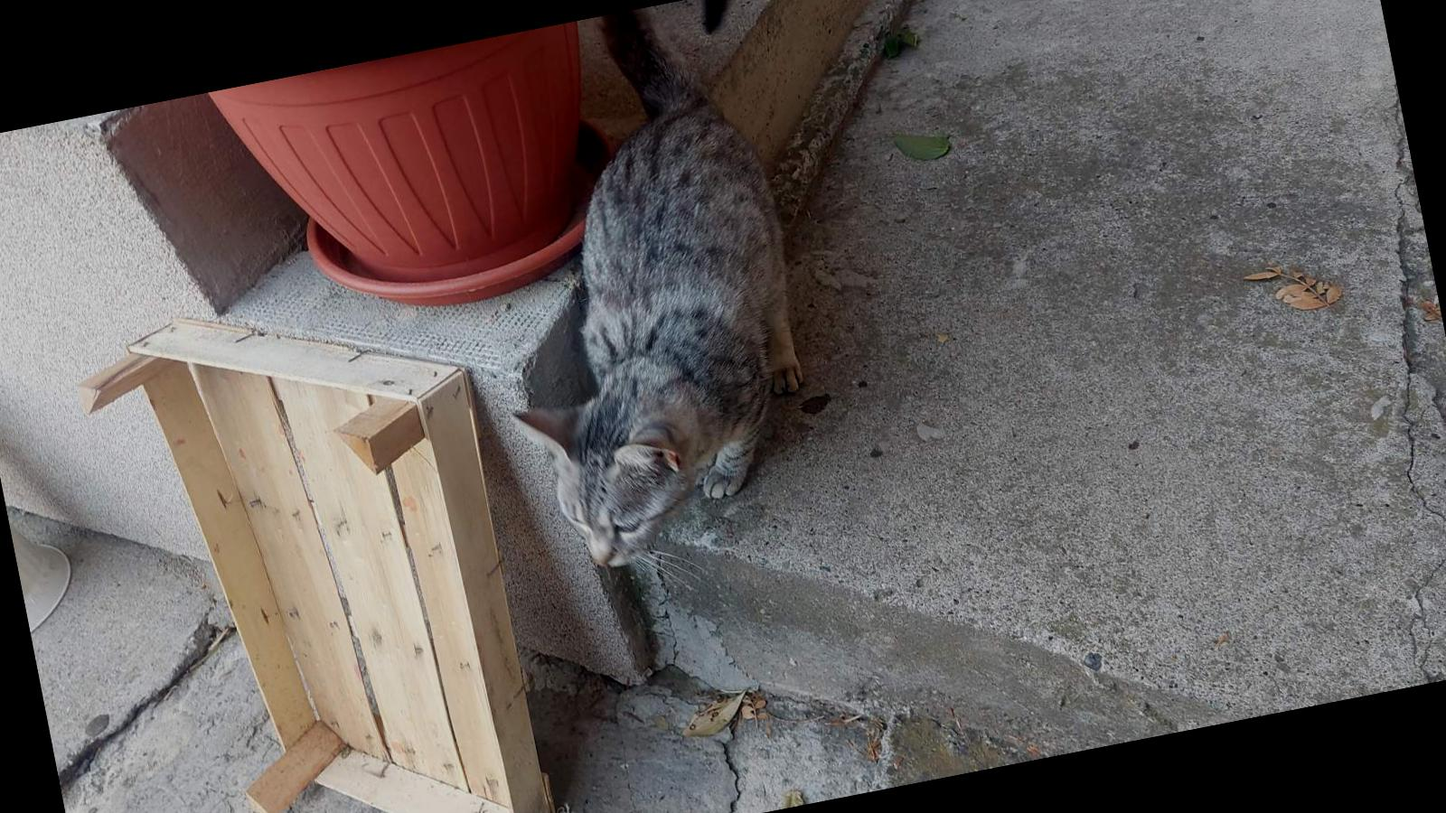macka: (436, 0, 839, 580)
